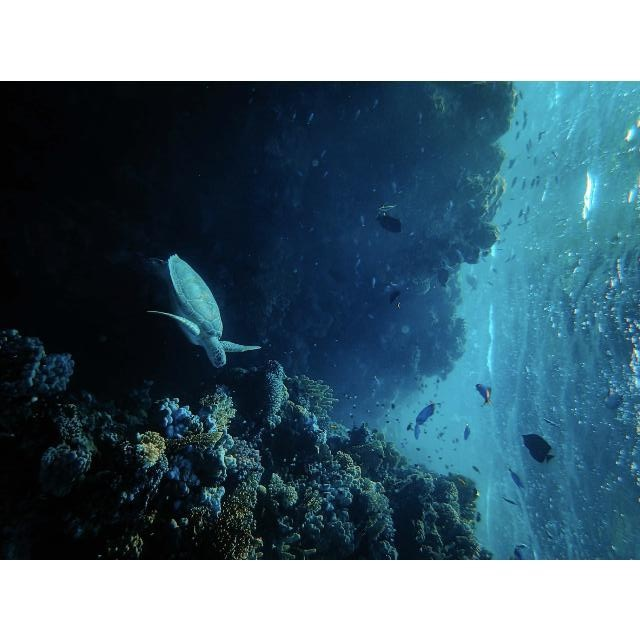turtle: (143, 252, 263, 368)
